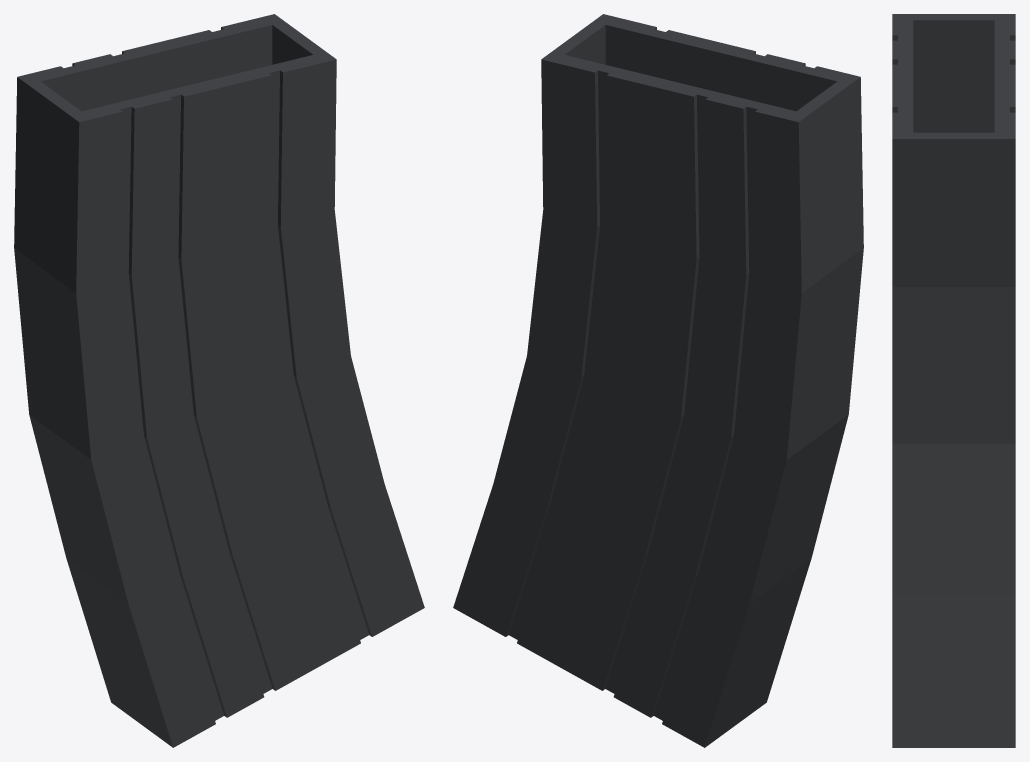
File: SM_AssaultRifle4_03_2.glb
The picture shows the model from 3 angles, left to right: view 1: azimuth 30°, elevation 25°; view 2: azimuth 150°, elevation 25°; view 3: azimuth 270°, elevation 25°; orthographic projection.
Visible parts, largest first — view 1: SM_AssaultRifle4_03_2; view 2: SM_AssaultRifle4_03_2; view 3: SM_AssaultRifle4_03_2.
Part boxes in pixels (bbox=[...]): SM_AssaultRifle4_03_2: bbox=[14, 14, 424, 747]; SM_AssaultRifle4_03_2: bbox=[453, 14, 863, 747]; SM_AssaultRifle4_03_2: bbox=[892, 14, 1015, 747].
Bounding box in the file's own units: 0.0878 × 0.1561 × 0.0271.
1 material, 1 textured.
